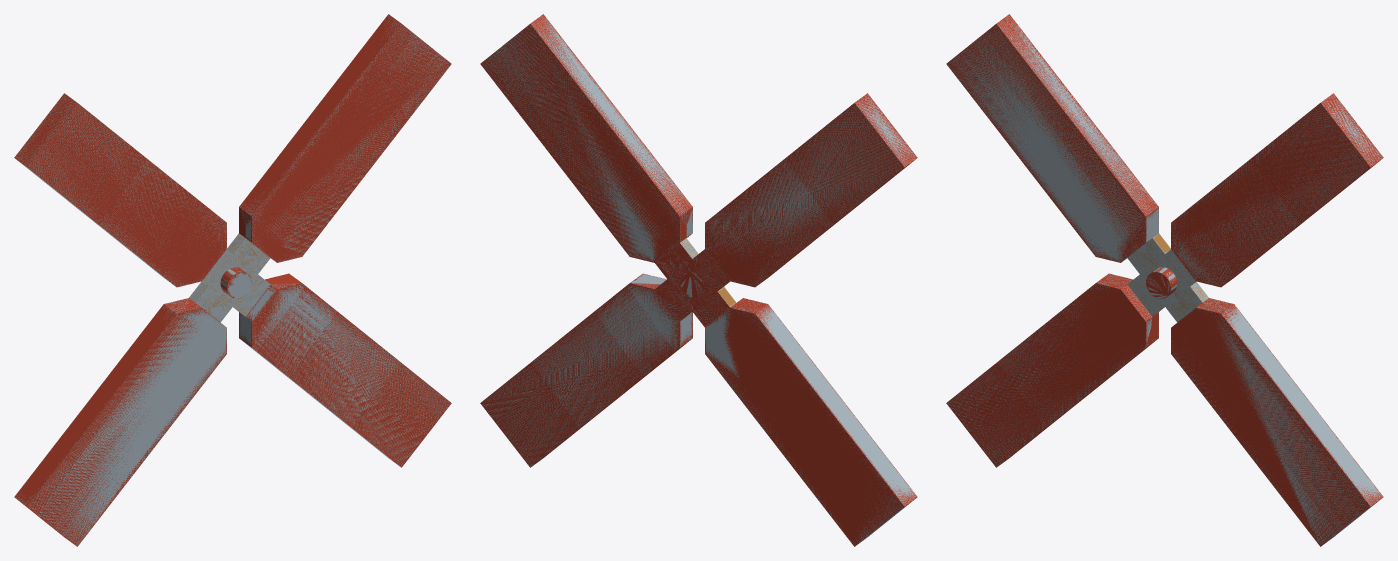
Rendered from Windmill_blades_01.obj.
3 renders of one model, left to right at view 1: azimuth 30°, elevation 25°; view 2: azimuth 150°, elevation 25°; view 3: azimuth 330°, elevation 25°, orthographic.
Visible parts, largest first — view 1: Mesh1 Windmill_blades Model; view 2: Mesh1 Windmill_blades Model; view 3: Mesh1 Windmill_blades Model.
Boxes of the visible parts, <box> form: Mesh1 Windmill_blades Model: <box>14,14,451,546</box>; Mesh1 Windmill_blades Model: <box>480,14,917,546</box>; Mesh1 Windmill_blades Model: <box>946,14,1383,546</box>.
Size of the model in its own units: 3.72 by 3.72 by 0.2.
